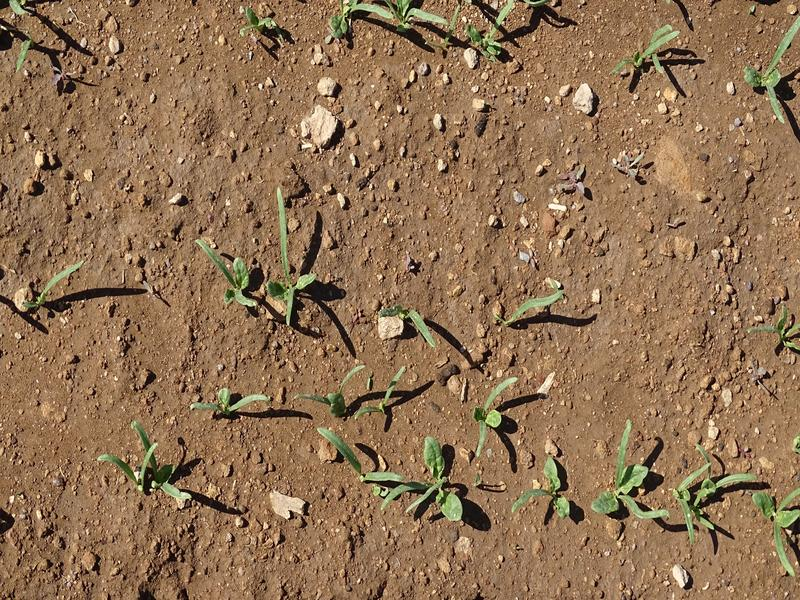Espinaca: (531, 433, 796, 575), (312, 431, 474, 530), (204, 199, 316, 327), (316, 2, 558, 47), (107, 424, 193, 508), (305, 362, 412, 425), (745, 15, 800, 121), (195, 380, 269, 422), (619, 24, 676, 74), (503, 289, 564, 329), (35, 261, 86, 306), (475, 386, 503, 457), (761, 306, 800, 346), (407, 306, 435, 347)
